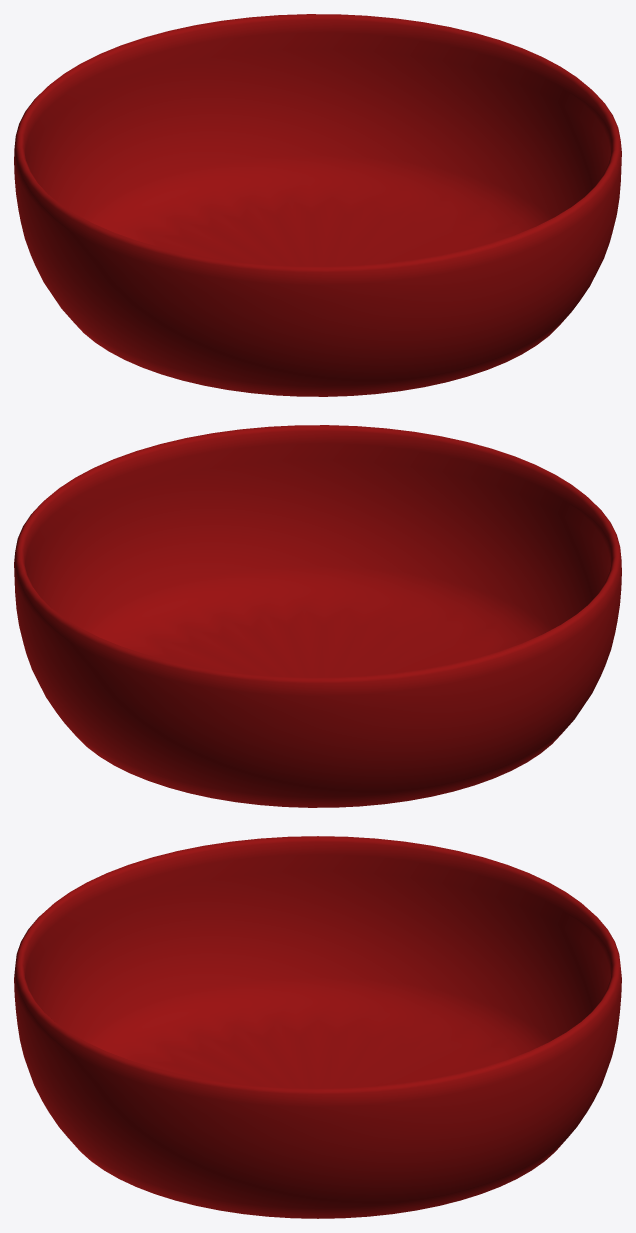
Rendered from bowl.glb.
3 renders of one model, top to bottom at view 1: azimuth 30°, elevation 25°; view 2: azimuth 150°, elevation 25°; view 3: azimuth 270°, elevation 25°, orthographic.
Parts seen in each view (by area): view 1: mesh; view 2: mesh; view 3: mesh.
Boxes of the visible parts, <box> form: mesh: <box>14,14,621,396</box>; mesh: <box>14,425,621,807</box>; mesh: <box>14,836,621,1218</box>.
Size of the model in its own units: 10.57 by 3.07 by 10.57.
